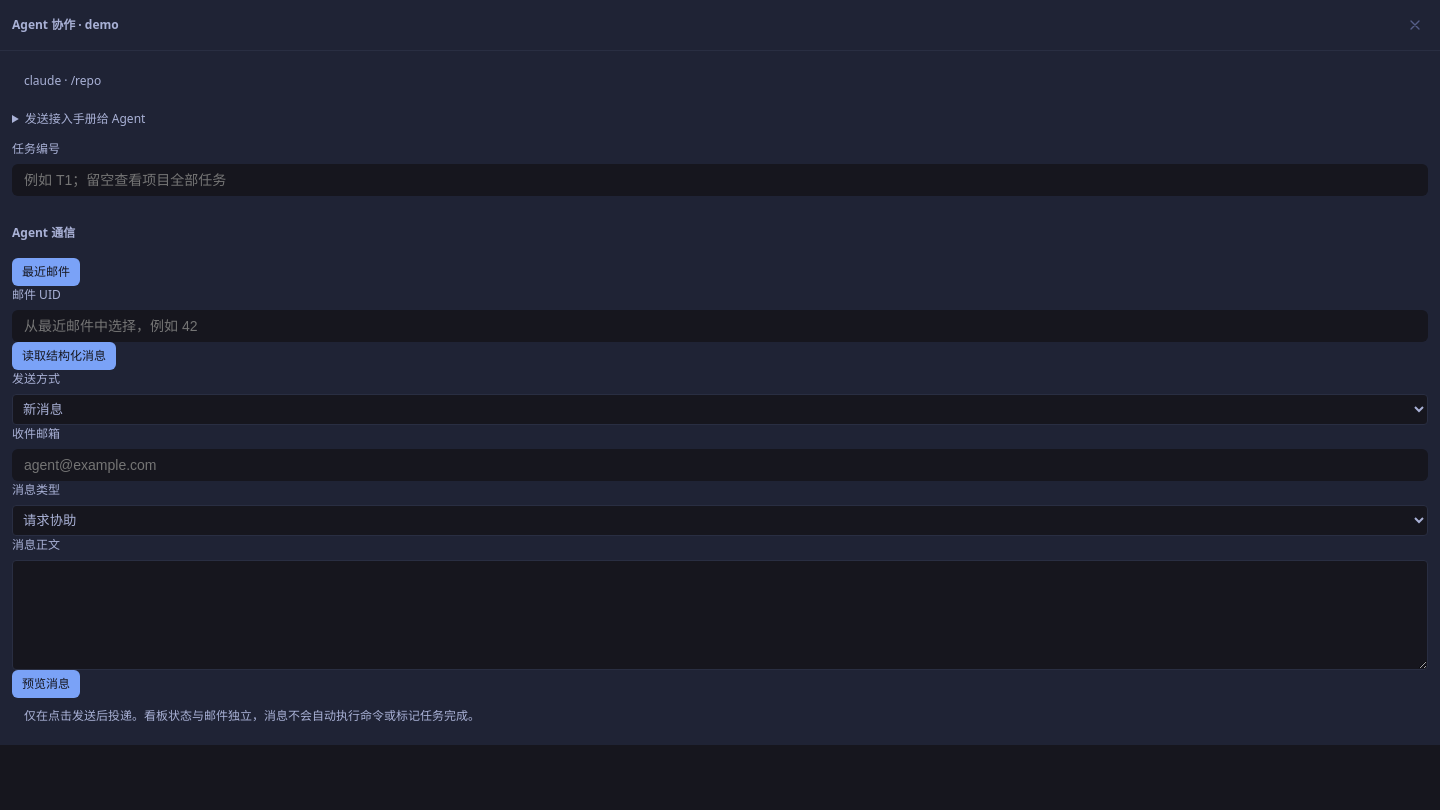
Scenario: optional collaboration › requires a preview and explicit send; editing invalidates the preview
Step 1. Type "T1" into the field labelled "任务编号" → (720, 180), box [12,164,1428,196]
Step 2. Type "pi@example.test" into the field labelled "收件邮箱" → (720, 465), box [12,449,1428,481]
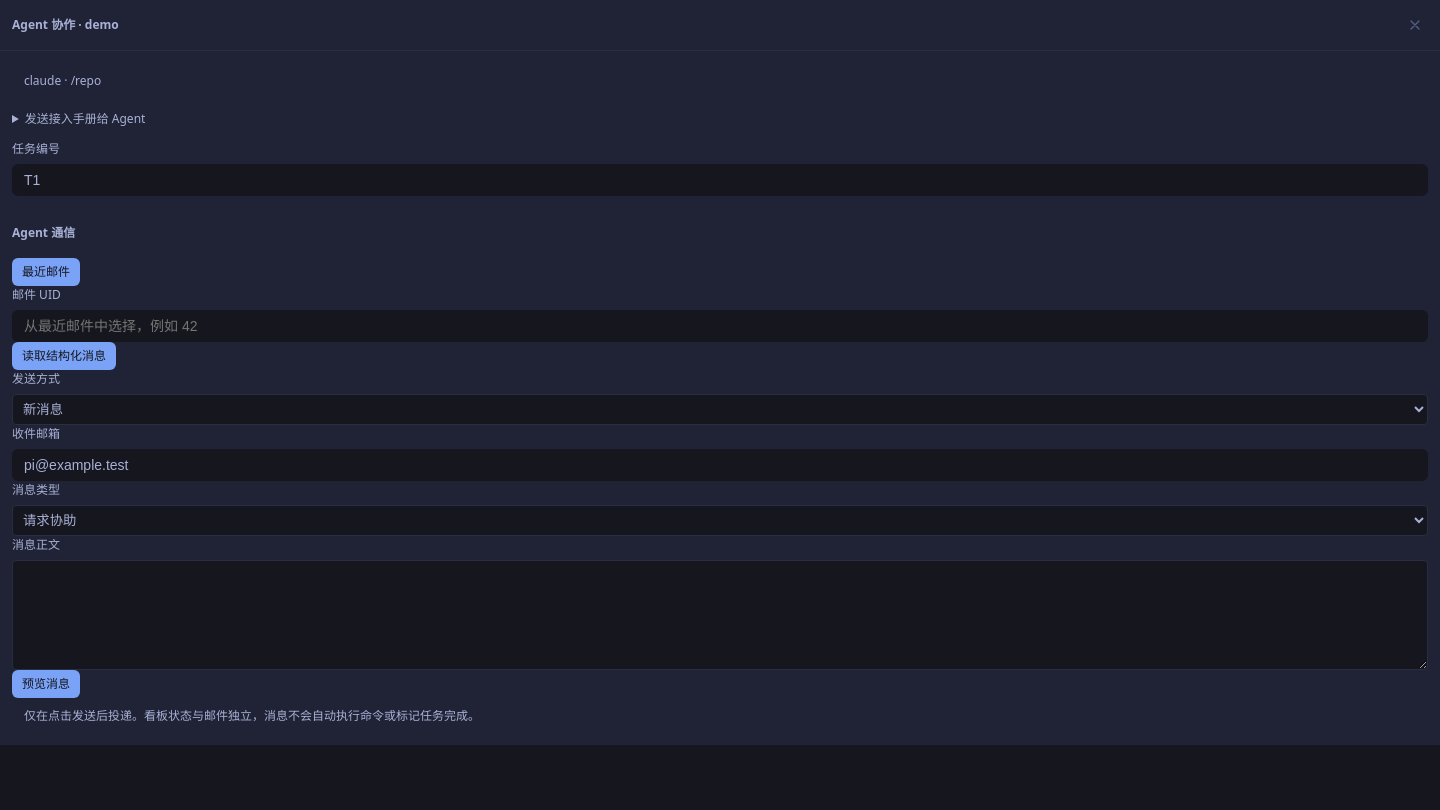
Step 3. Type "请审查" into the text box labelled "消息正文" → (720, 615), box [12,560,1428,670]
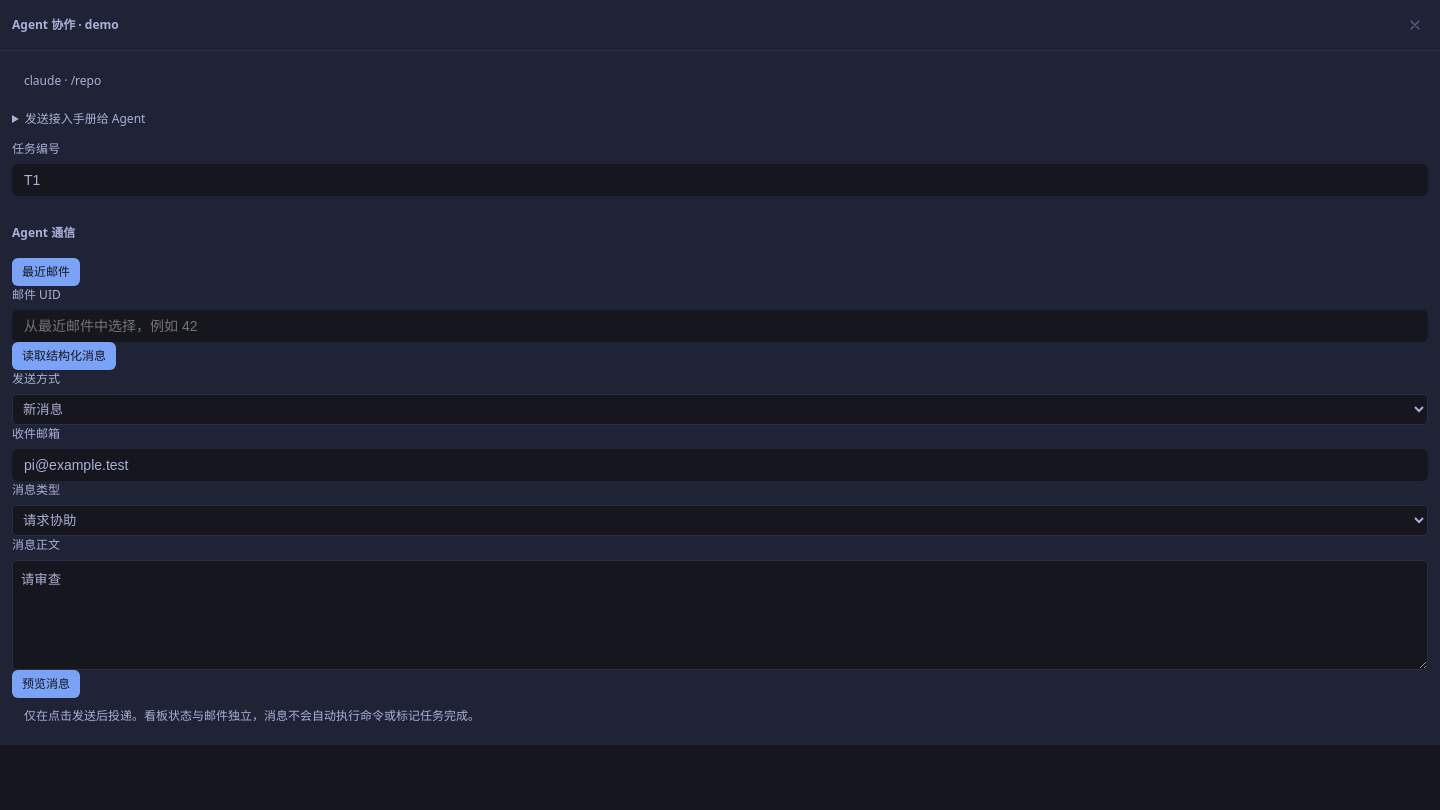
Step 4. Click the button "预览消息" → (46, 684), box [12,670,80,698]
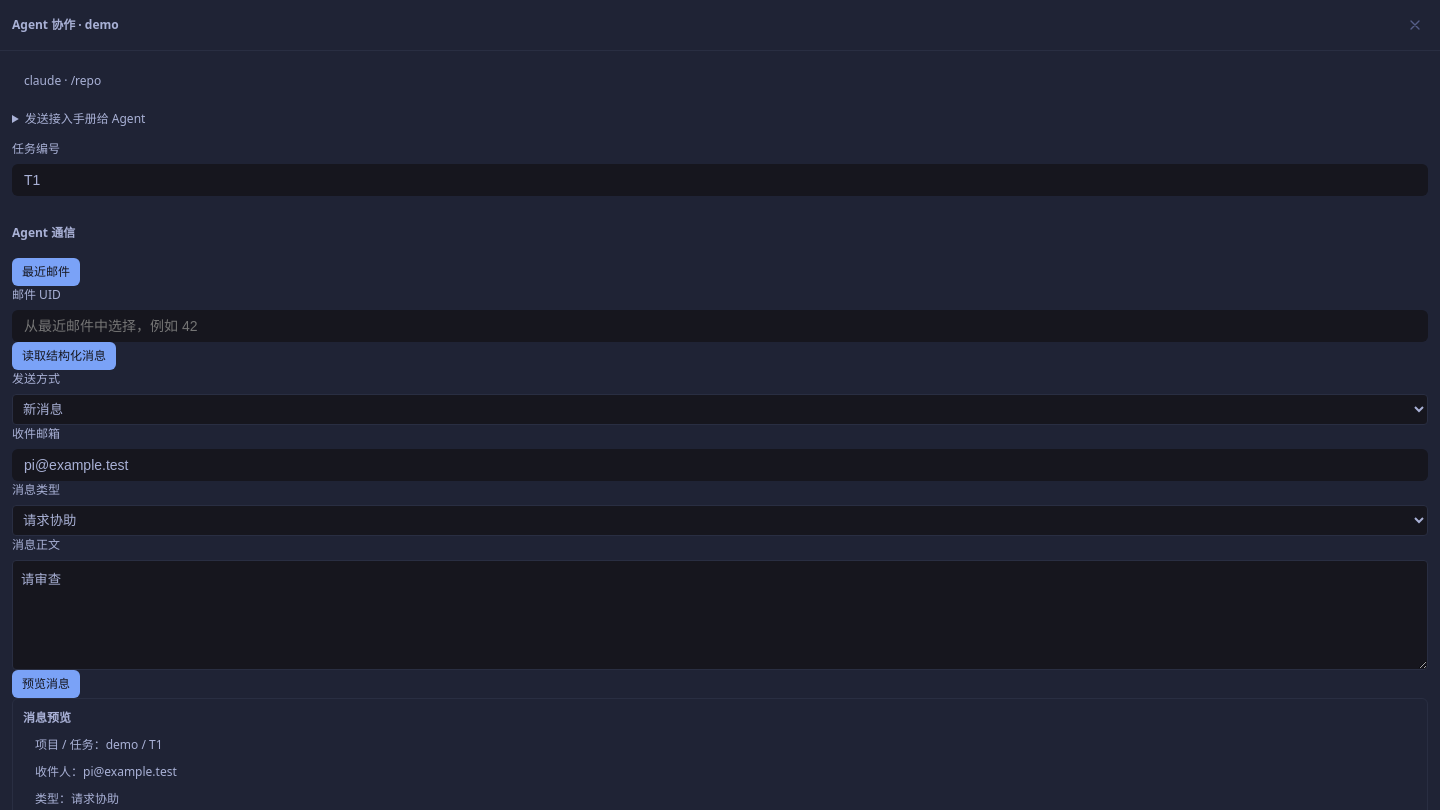
Step 5. Replace the text in the text box labelled "消息正文" with "请审查新版本" → (720, 615), box [12,560,1428,670]
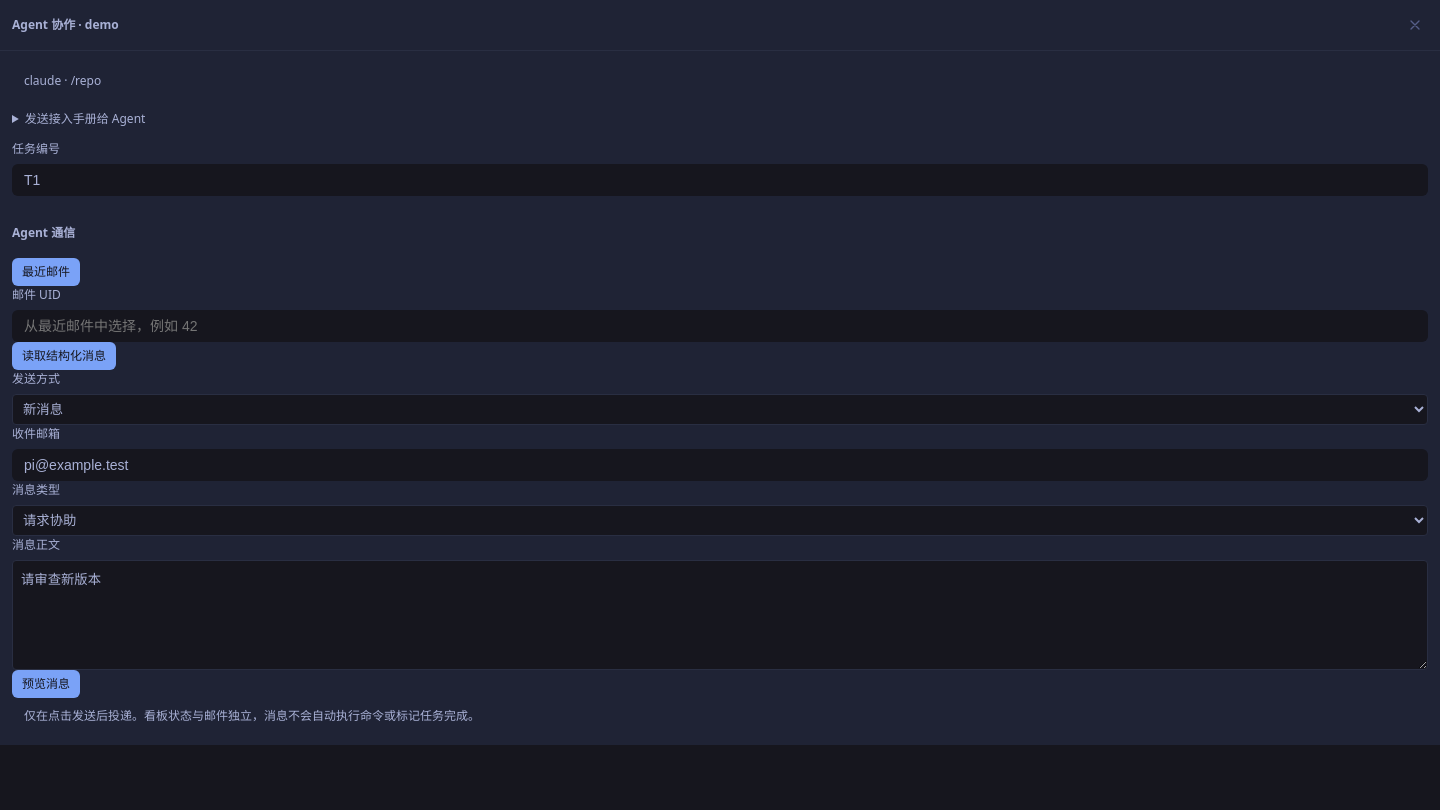
Step 6. Click the button "预览消息" → (46, 684), box [12,670,80,698]
(page scrolled)
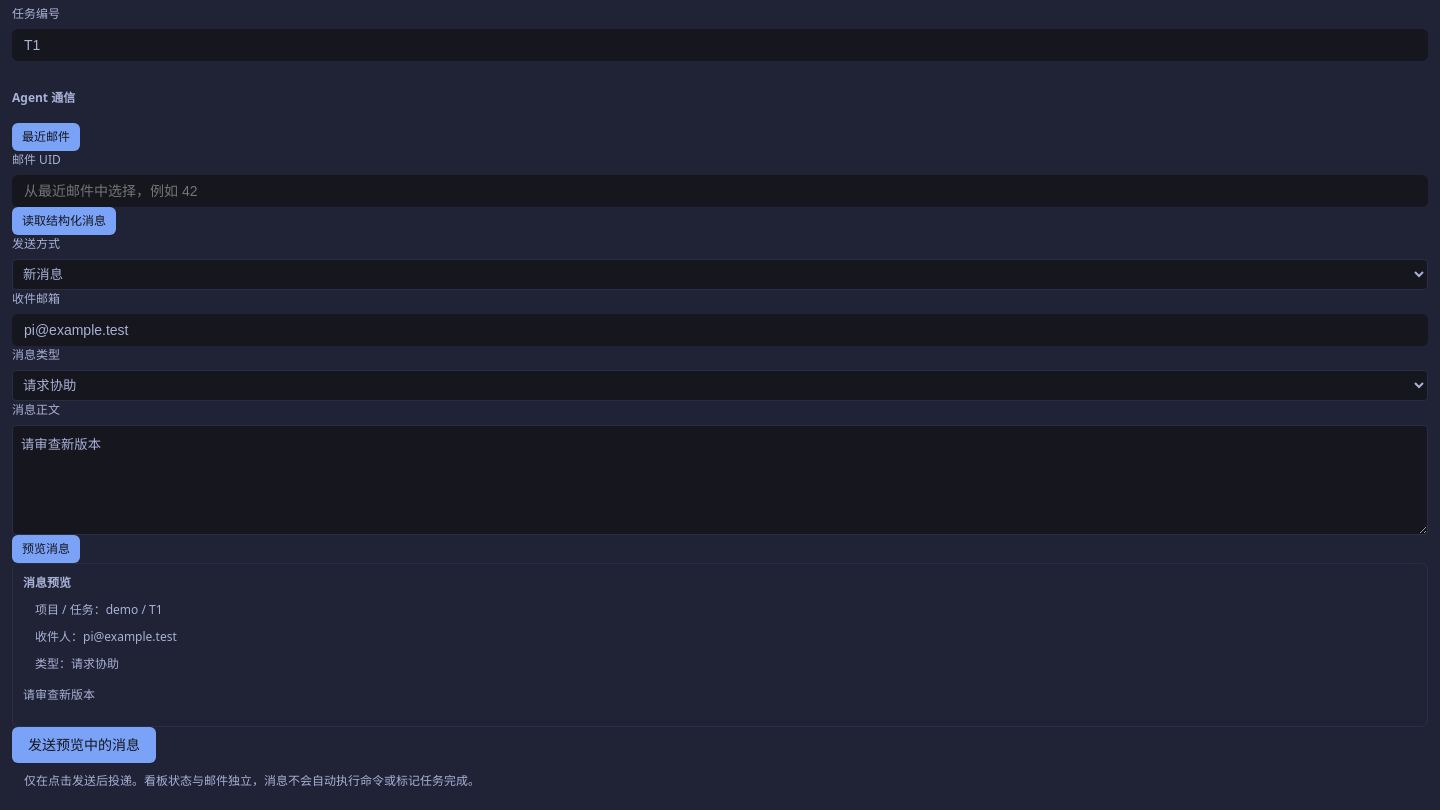
Step 7. Click the button "发送预览中的消息" → (84, 745), box [12,727,156,763]
(page scrolled)
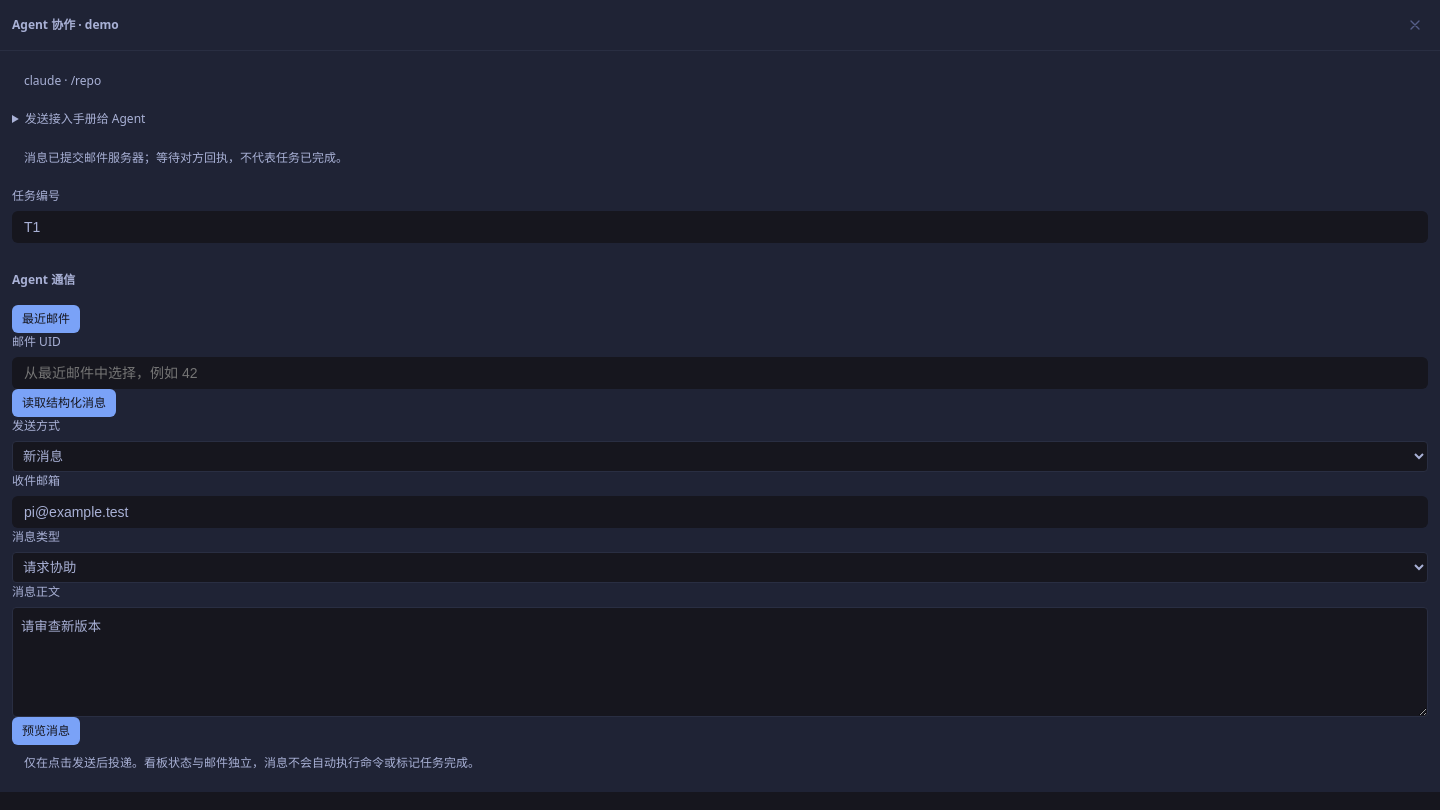
Now the text "消息已提交邮件服务器；等待对方回执，不代表任务已完成。" is shown, box [24,149,348,166]
